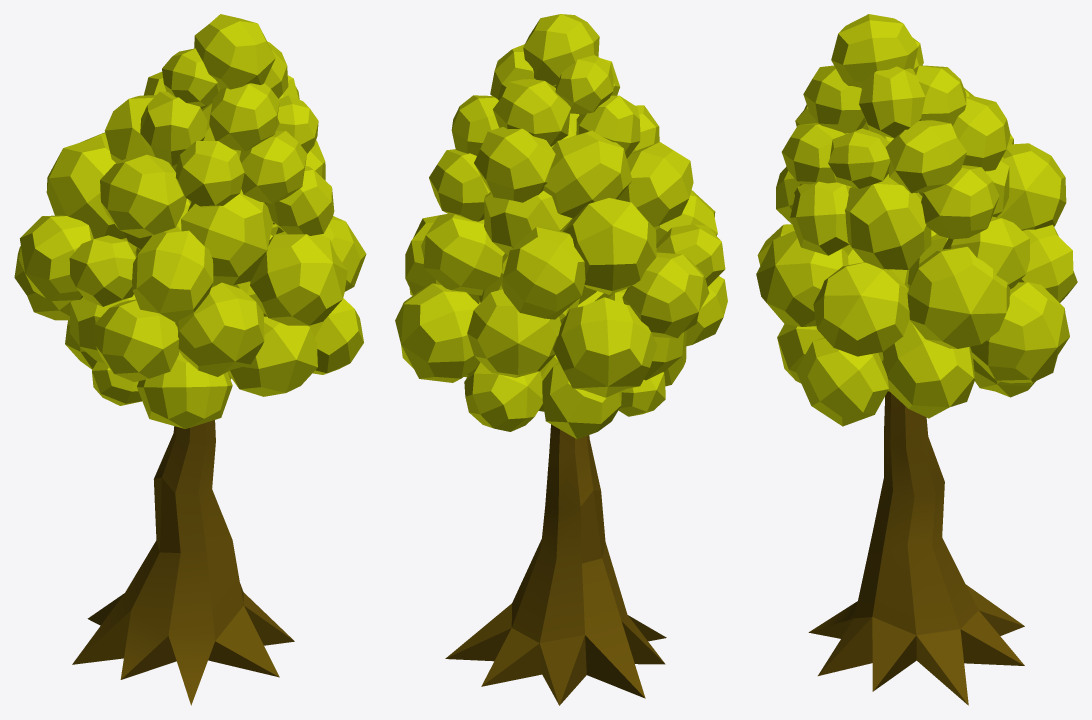
File: Tree4.fbx
The picture shows the model from 3 angles, left to right: view 1: azimuth 30°, elevation 25°; view 2: azimuth 150°, elevation 25°; view 3: azimuth 270°, elevation 25°; orthographic projection. The views are drawn at different scales.
Visible parts, largest first — view 1: Tree4; view 2: Tree4; view 3: Tree4.
Boxes of the visible parts, x1,y1,x2,y2 form: Tree4: (14,14,366,705); Tree4: (395,14,727,705); Tree4: (756,14,1077,705).
Bounding box in the file's own units: 3.72 × 7.79 × 3.49.
